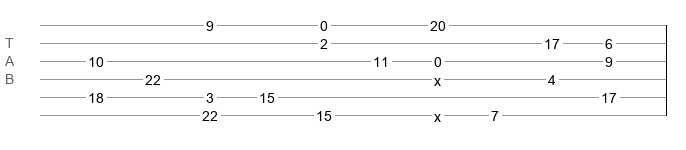0: (320, 18, 328, 28), (434, 54, 442, 64)
10: (88, 54, 104, 64)
11: (373, 54, 389, 64)
15: (259, 90, 275, 100), (316, 108, 332, 118)
17: (544, 36, 560, 46), (601, 90, 617, 100)
18: (88, 90, 104, 100)
2: (320, 36, 328, 46)
20: (430, 18, 446, 28)
22: (145, 72, 161, 82), (202, 108, 218, 118)
3: (206, 90, 214, 100)
4: (548, 72, 556, 82)
6: (605, 36, 613, 46)
7: (491, 108, 499, 118)
9: (206, 18, 214, 28), (605, 54, 613, 64)
x: (434, 73, 441, 81), (434, 109, 441, 117)
